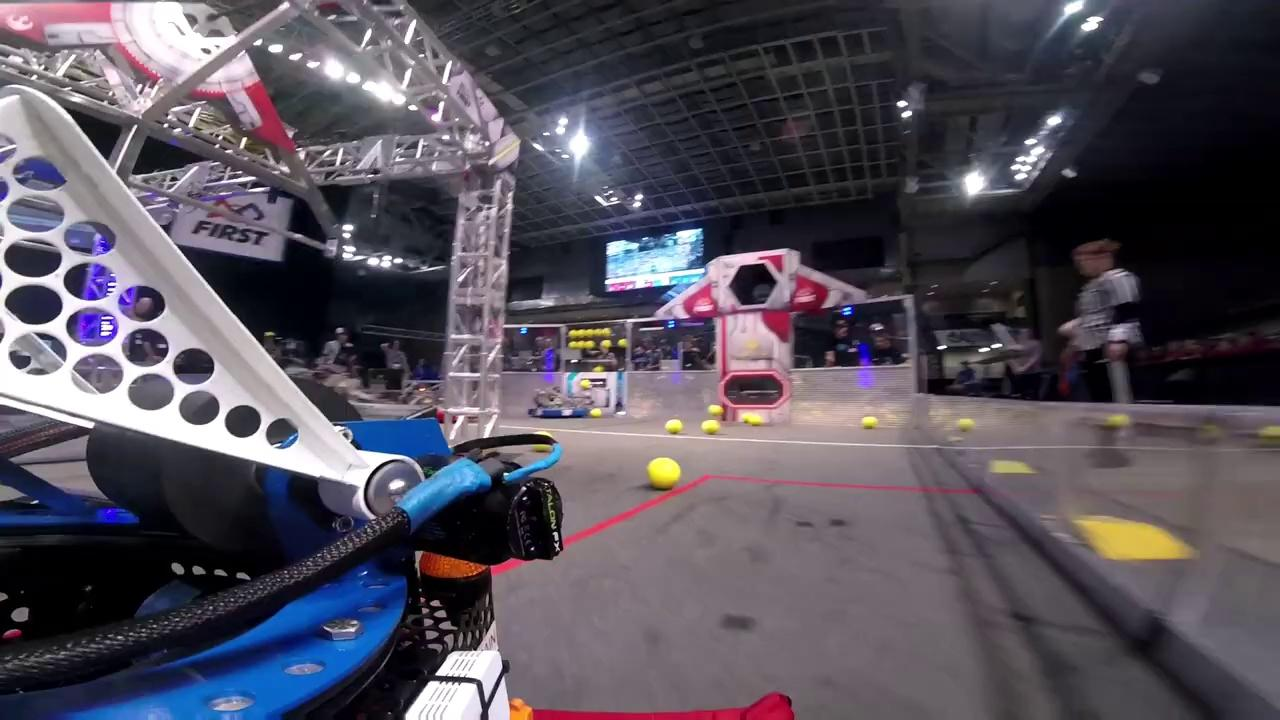robot: (528, 382, 600, 420)
